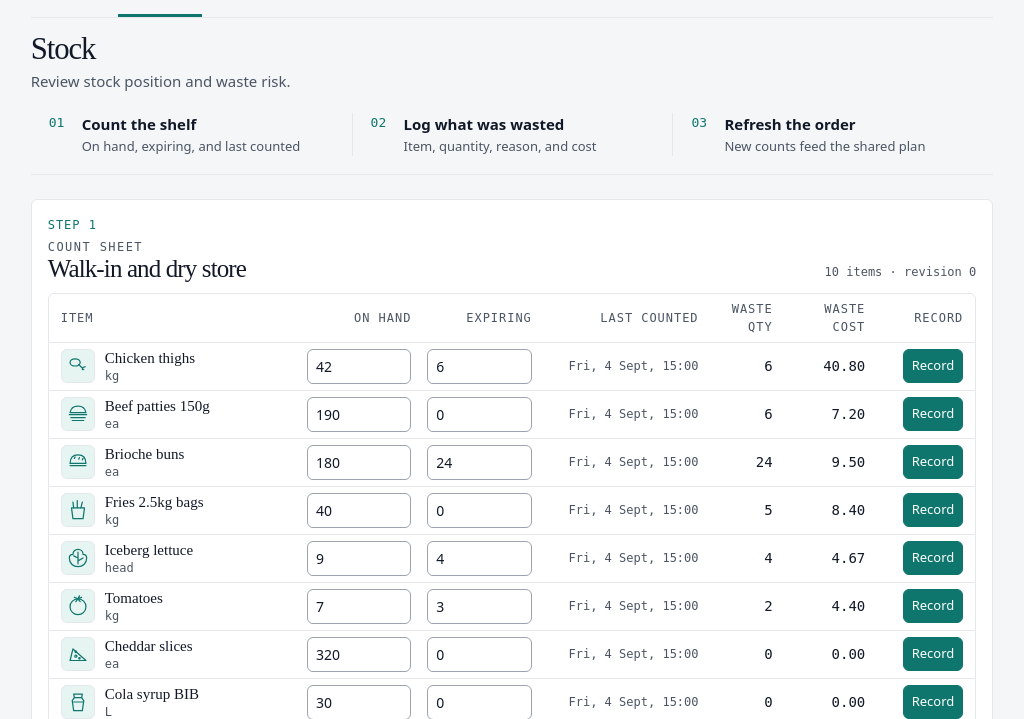
order review UI › records shelf counts and waste from the Stock section
(page scrolled)
Replace the text in the number field named "Chicken thighs on hand" with "30" at (359, 366), box [307,349,411,384]
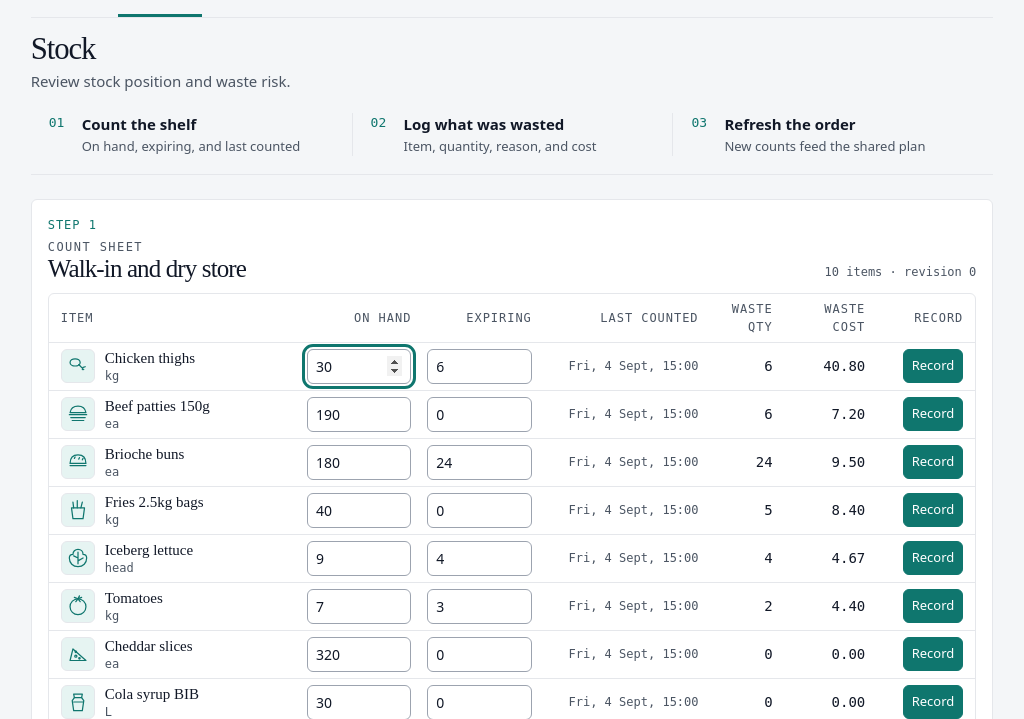
Click the button with aria-label "Record Chicken thighs count" at (933, 366), box [903,349,963,383]
(page scrolled)
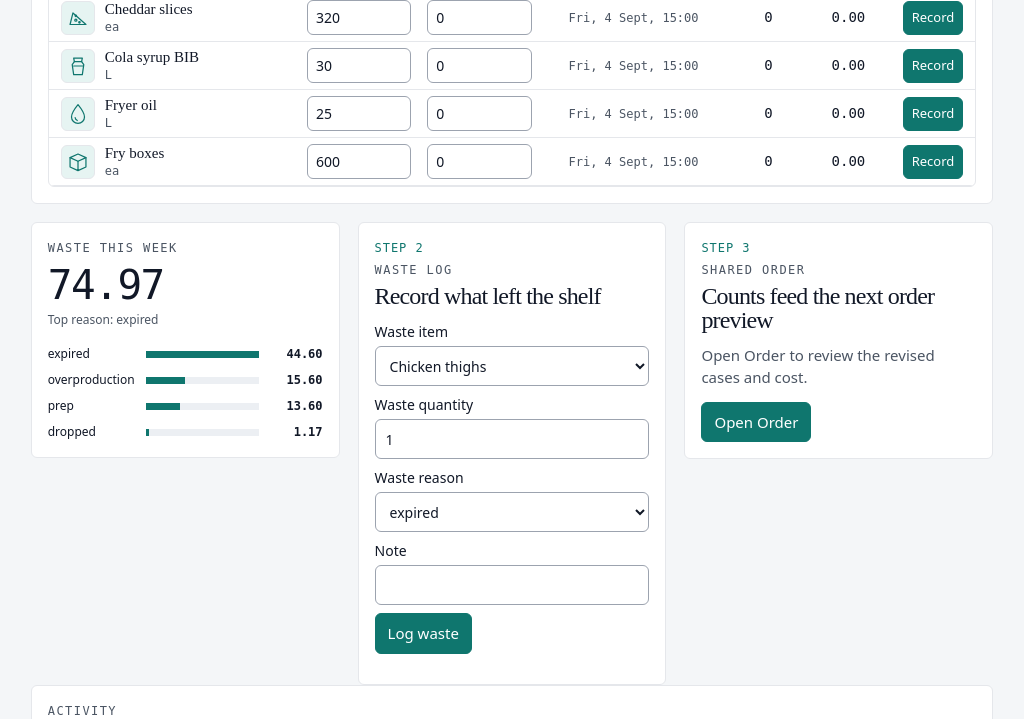
Select "Iceberg lettuce" in the dropdown labelled "Waste item" at (512, 366), box [375,346,650,386]
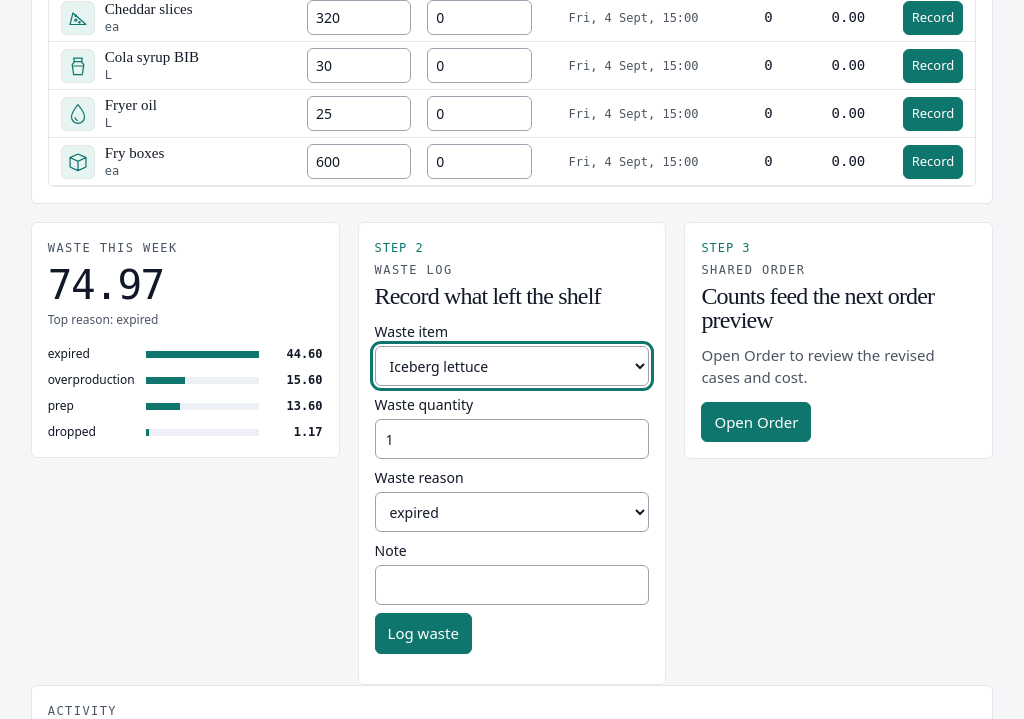
Replace the text in the number field labelled "Waste quantity" with "2" at (512, 439), box [375,419,650,459]
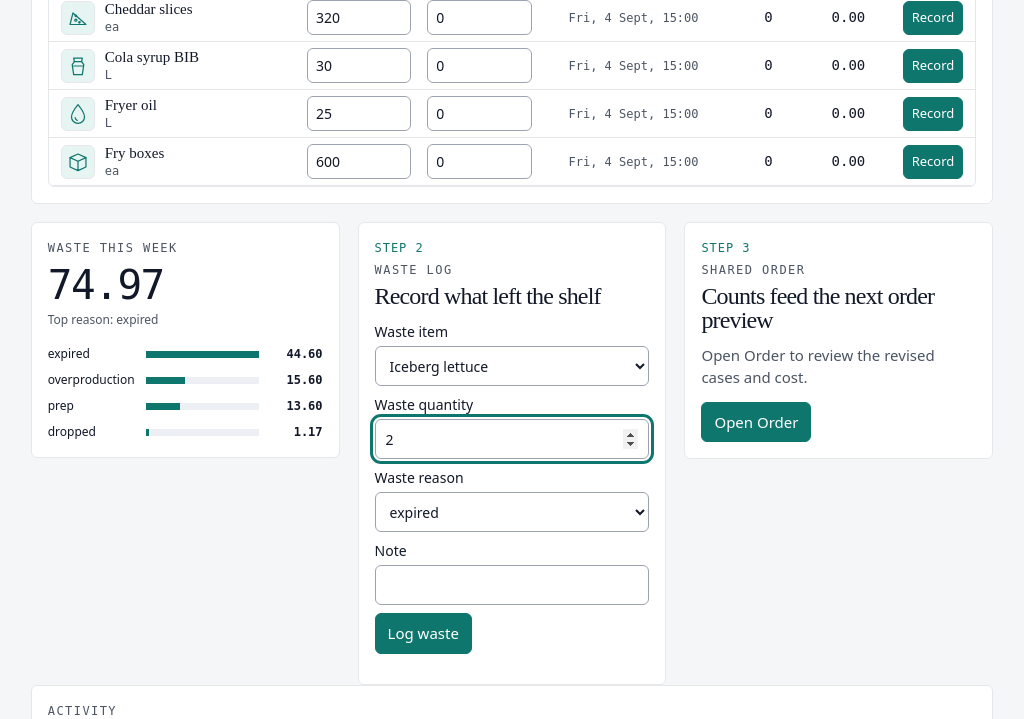
Select "expired" in the dropdown labelled "Waste reason" at (512, 512), box [375,492,650,532]
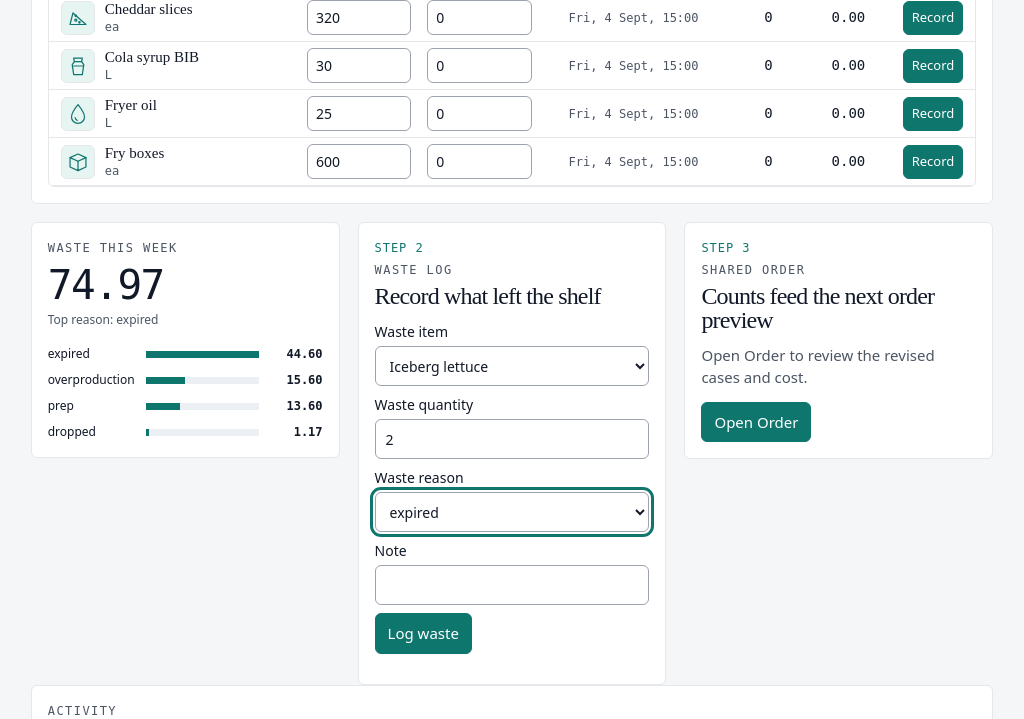
Click the button "Log waste" at (423, 633), box [375,613,472,654]
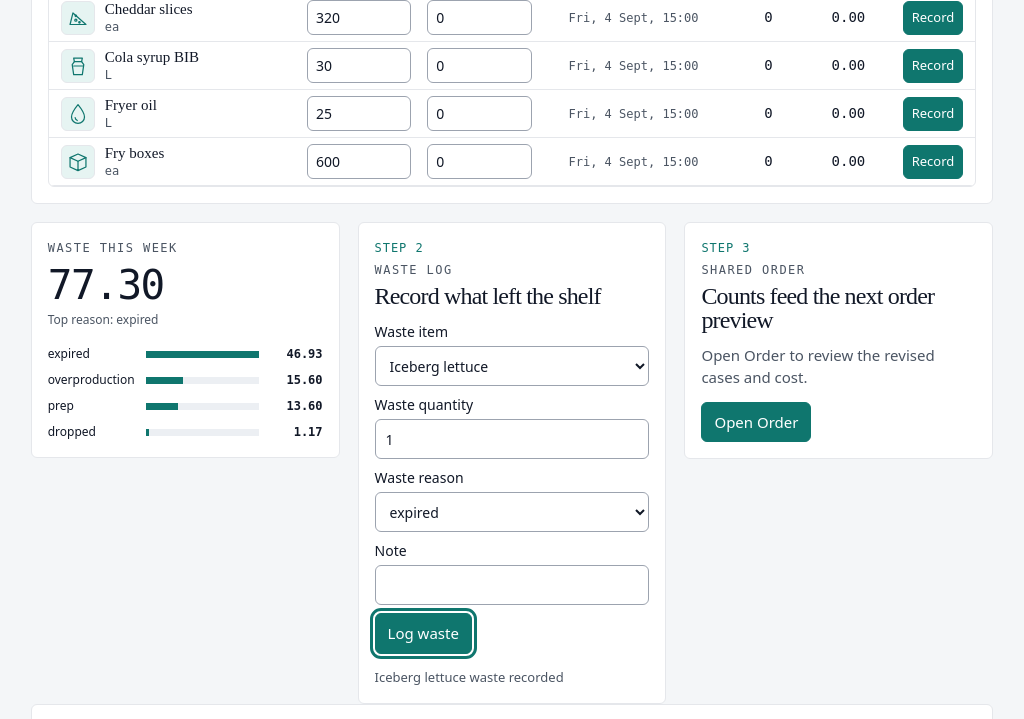
Result: the heading "77.30" is shown at [48,261,164,309]
